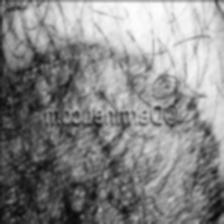Toxin: (4, 41, 224, 224)
